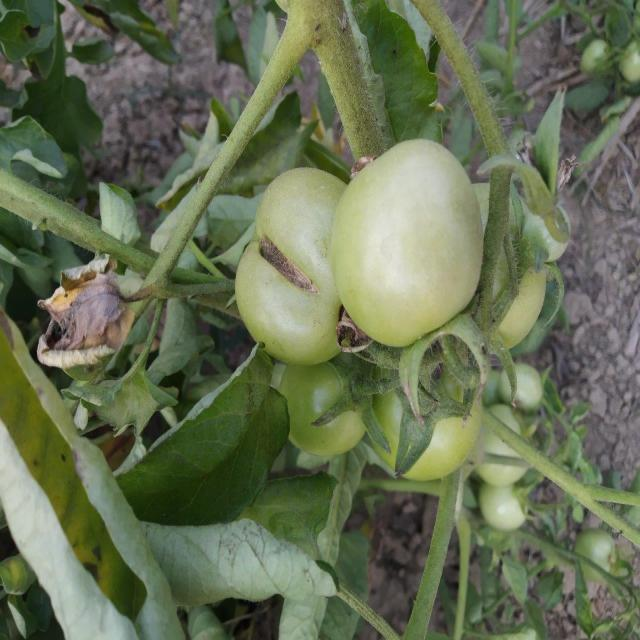Unripe: (332, 138, 486, 351)
